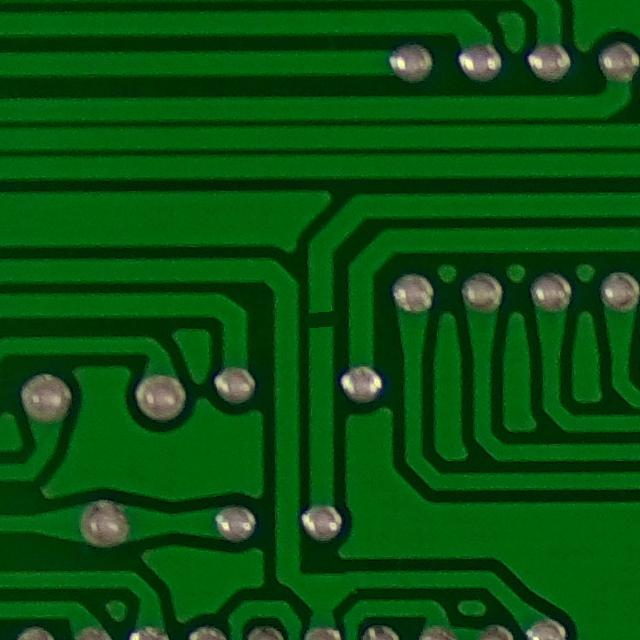open_circuit: (298, 302, 342, 338)
